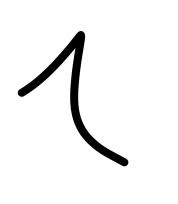t: (12, 29, 71, 106)
